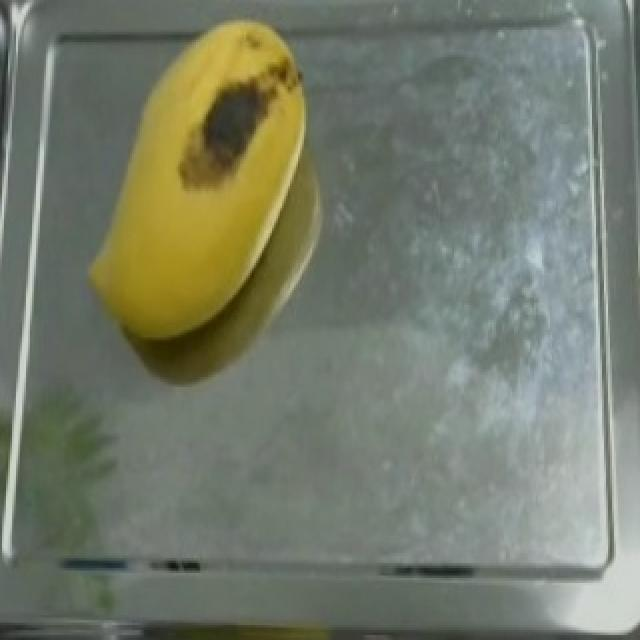fruit: (70, 15, 330, 362)
